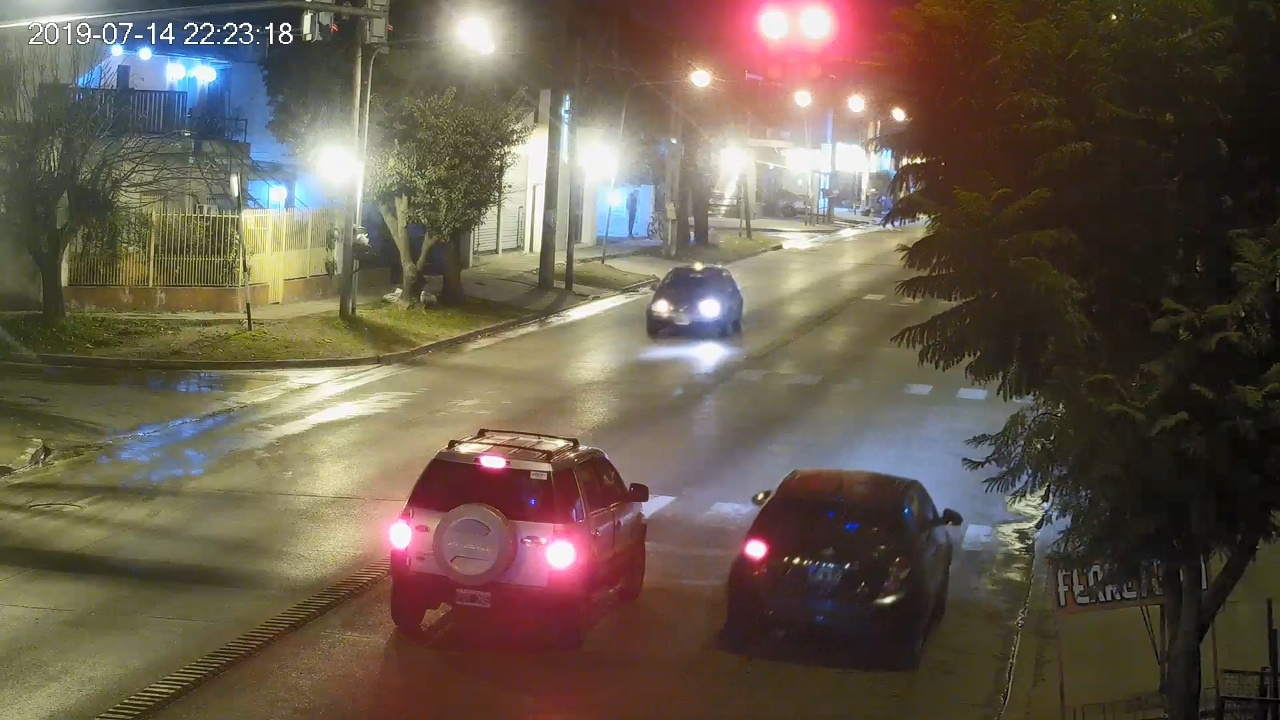car: (391, 429, 649, 645), (727, 468, 963, 669)
front car: (646, 265, 743, 335)
traffic light: (763, 6, 787, 79), (803, 7, 827, 80)
